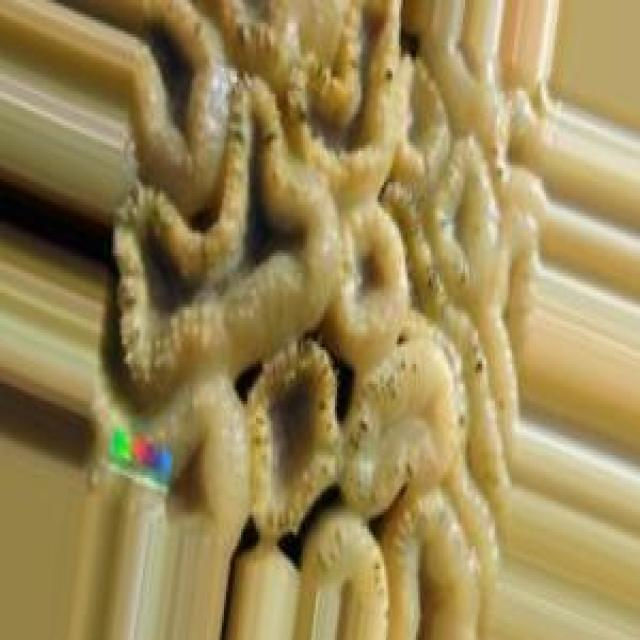Healthy: (114, 1, 515, 638)
